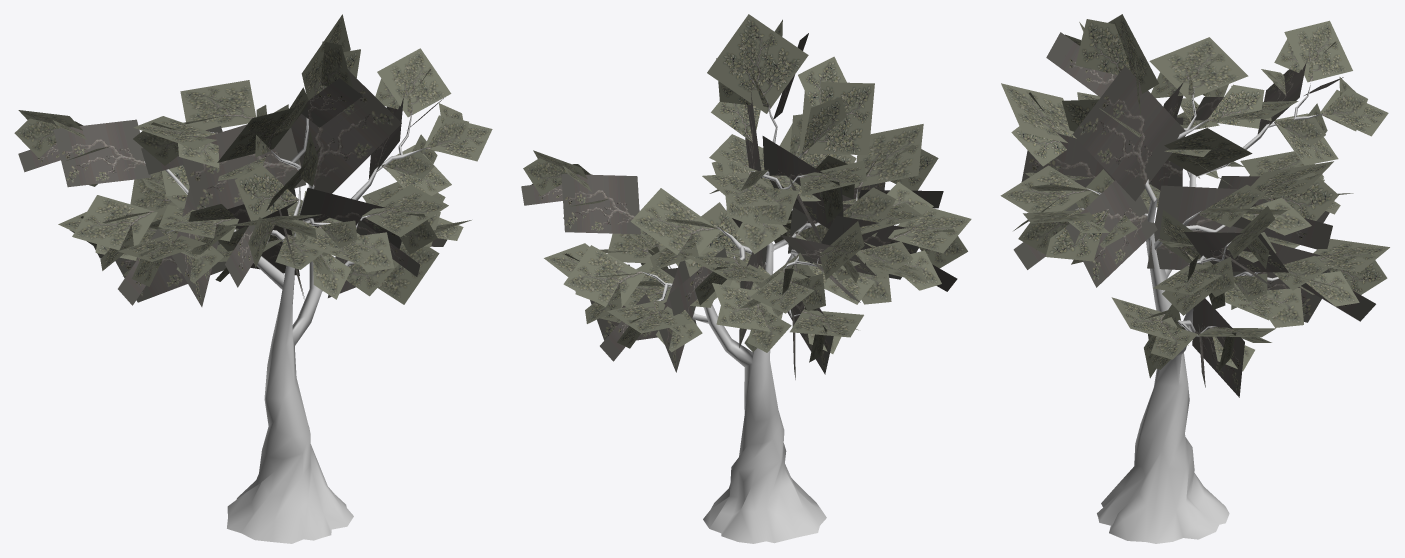
The model's file is Swamp_Tree_Straight_B.fbx.
The picture shows the model from 3 angles, left to right: view 1: azimuth 30°, elevation 25°; view 2: azimuth 150°, elevation 25°; view 3: azimuth 270°, elevation 25°; orthographic projection. The views are drawn at different scales.
Visible parts, largest first — view 1: Swamp_Tree_Straight_B; view 2: Swamp_Tree_Straight_B; view 3: Swamp_Tree_Straight_B.
Part boxes in pixels (box(x1,y1,x2,y2)): Swamp_Tree_Straight_B: box(14, 14, 492, 543); Swamp_Tree_Straight_B: box(521, 14, 971, 543); Swamp_Tree_Straight_B: box(1000, 14, 1389, 543).
Bounding box in the file's own units: 364 × 427 × 291.
